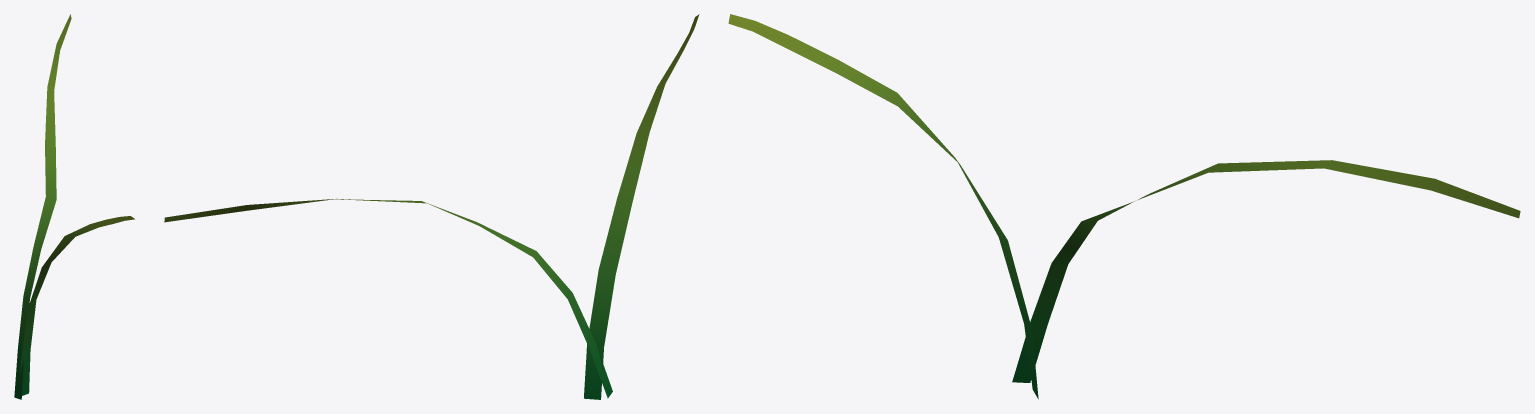
Rendered from grass_medium_01_14.glb.
3 views of the same model, side by side, from view 1: azimuth 30°, elevation 25°; view 2: azimuth 150°, elevation 25°; view 3: azimuth 270°, elevation 25° (orthographic). The views are drawn at different scales.
Visible parts, largest first — view 1: grass_medium_01_tiny_d_LOD0; view 2: grass_medium_01_tiny_d_LOD0; view 3: grass_medium_01_tiny_d_LOD0.
Part boxes in pixels (x1,y1,x2,y2): grass_medium_01_tiny_d_LOD0: [14, 14, 134, 399]; grass_medium_01_tiny_d_LOD0: [164, 14, 699, 399]; grass_medium_01_tiny_d_LOD0: [728, 14, 1520, 399].
Size of the model in its own units: 0.043 by 0.0478 by 0.0886.
